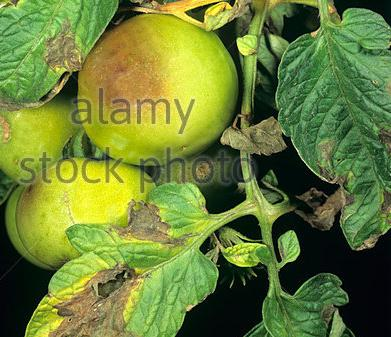Tomato leaf late blight: (18, 189, 233, 337), (269, 0, 391, 258), (0, 0, 156, 112)
